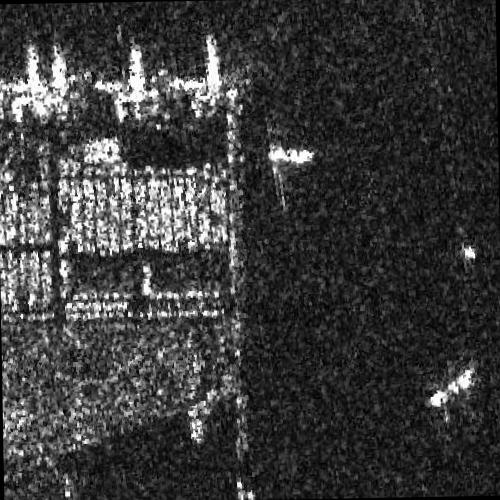ship: (429, 368, 474, 409), (268, 144, 316, 167), (463, 246, 476, 262)
